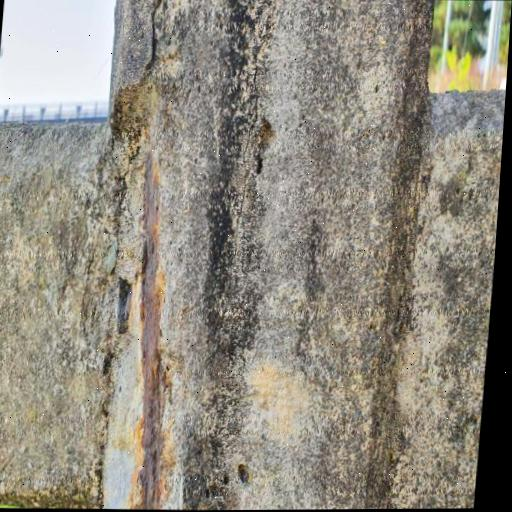exposed_rebar: (139, 152, 166, 509)
